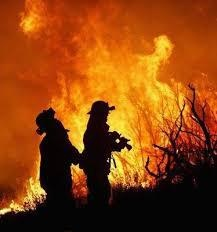fire: (68, 162, 86, 197)
